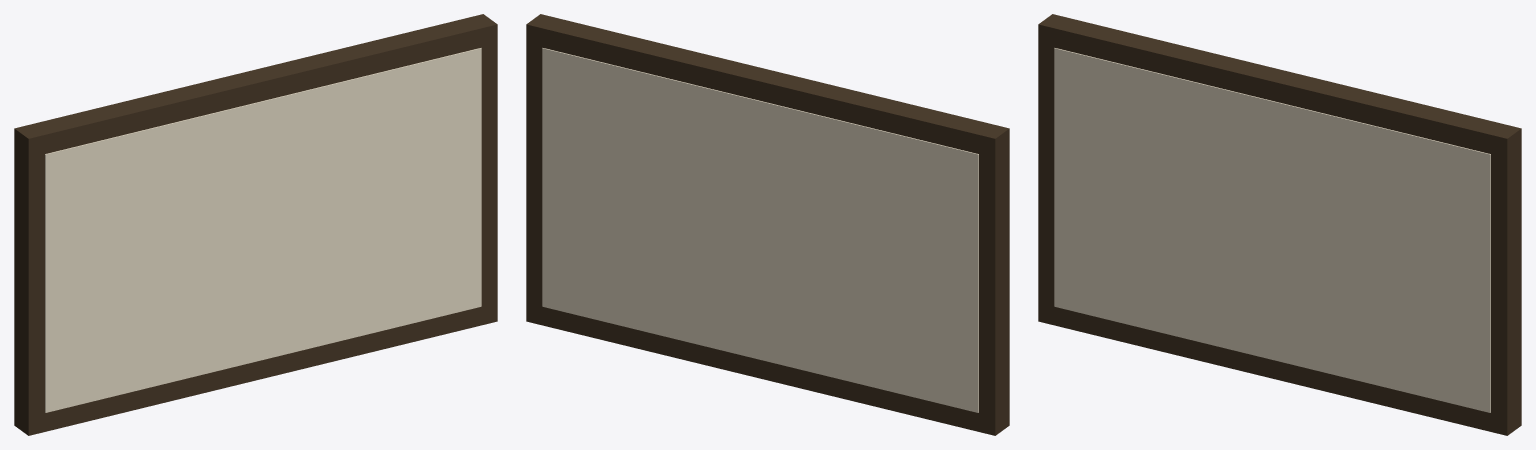
File: board.glb
3 views of the same model, side by side, from view 1: azimuth 30°, elevation 25°; view 2: azimuth 150°, elevation 25°; view 3: azimuth 330°, elevation 25° (orthographic).
Parts seen in each view (by area): view 1: _MeshInstance3D_48; view 2: _MeshInstance3D_48; view 3: _MeshInstance3D_48.
Boxes of the visible parts, box(x1,y1,x2,y2) form: _MeshInstance3D_48: box(14, 14, 497, 435); _MeshInstance3D_48: box(526, 14, 1009, 435); _MeshInstance3D_48: box(1038, 14, 1521, 435).
Bounding box in the file's own units: 1.9 × 1.15 × 0.108.
